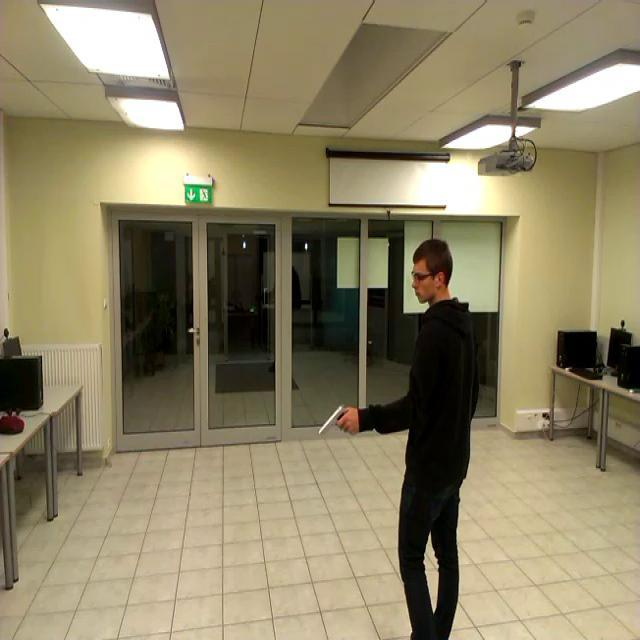Gun: (320, 402, 352, 436)
